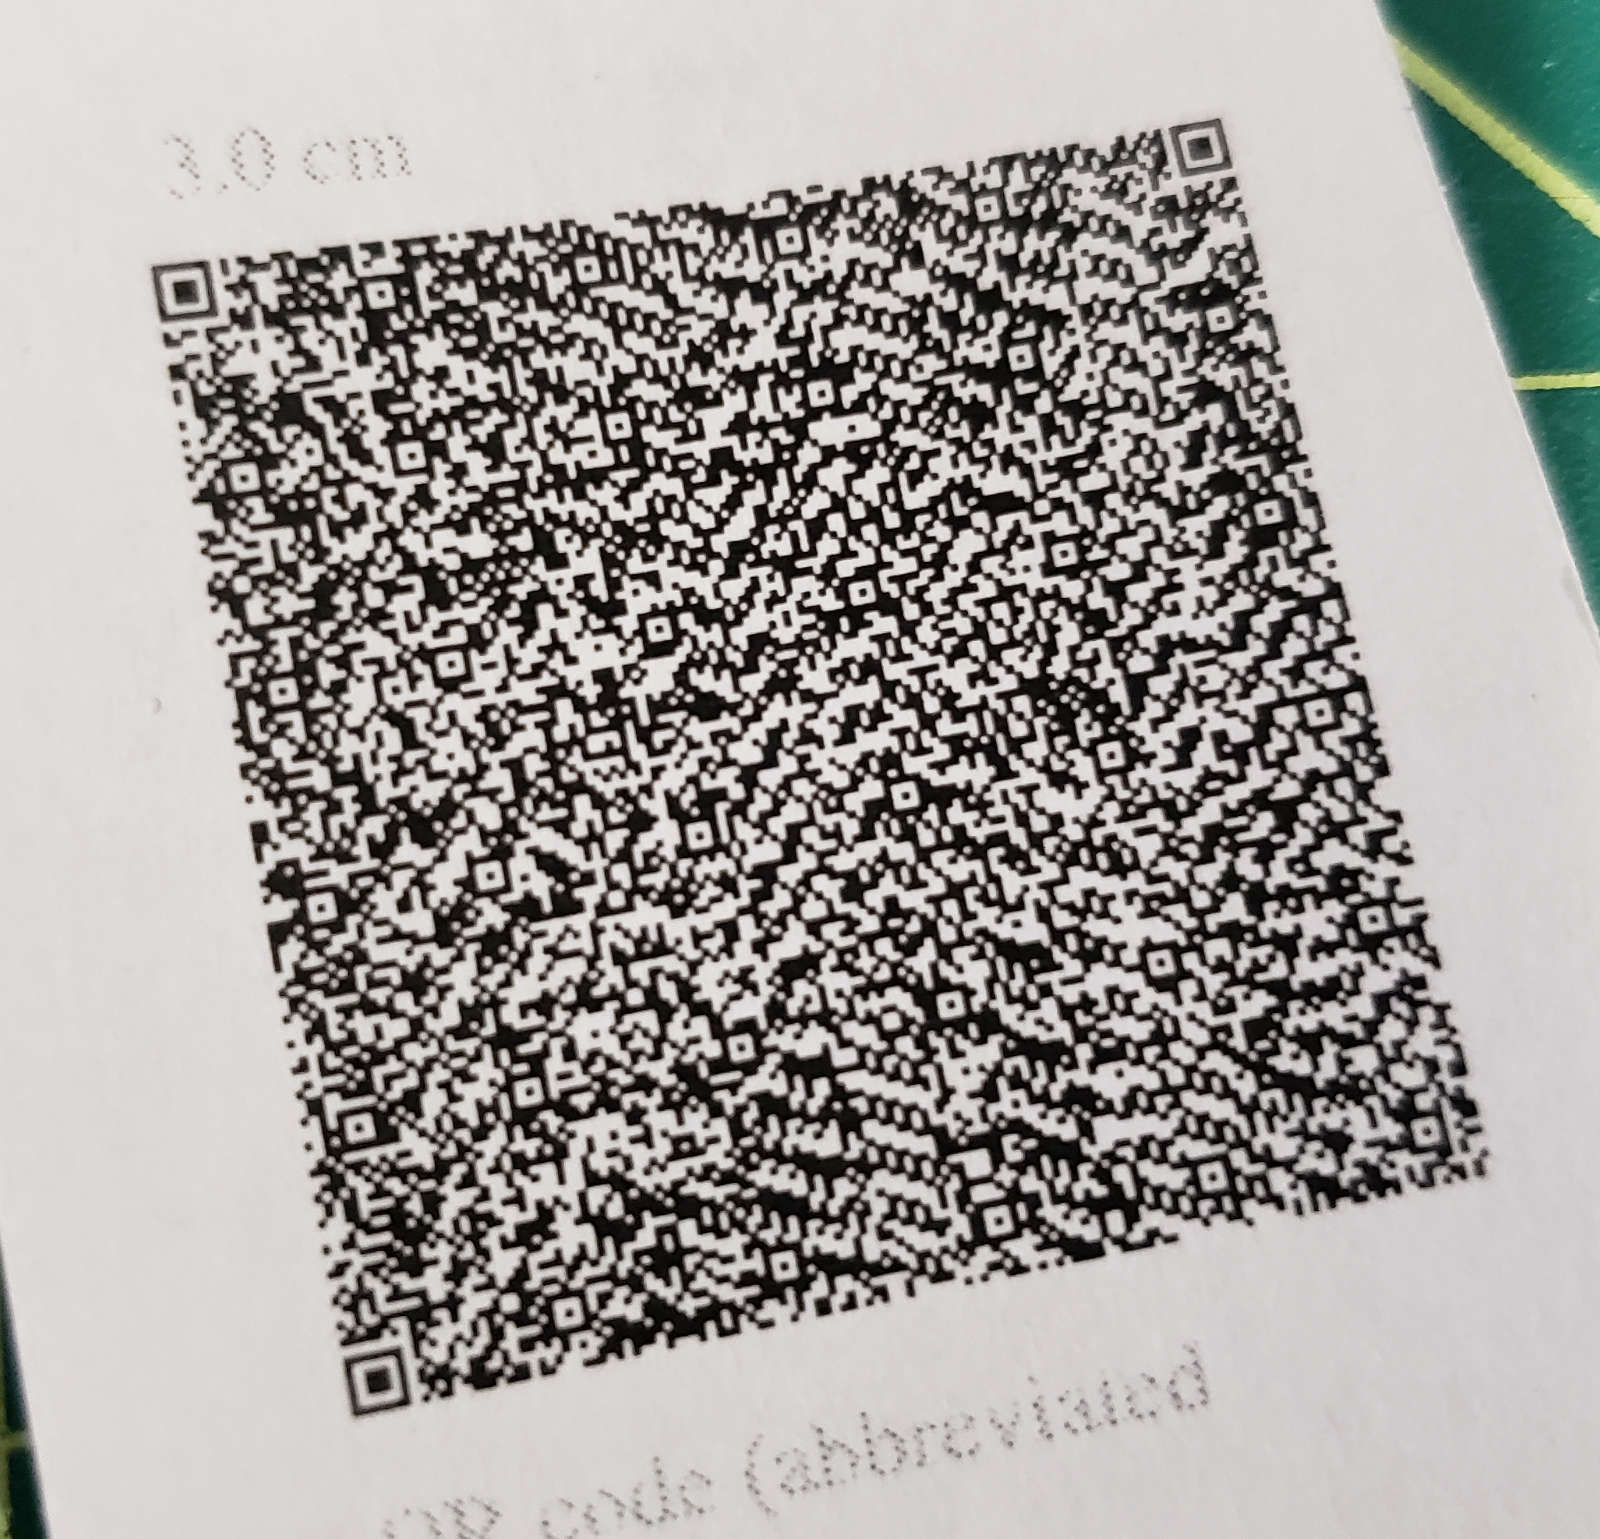QR_CODE: (106, 74, 1539, 1445)
